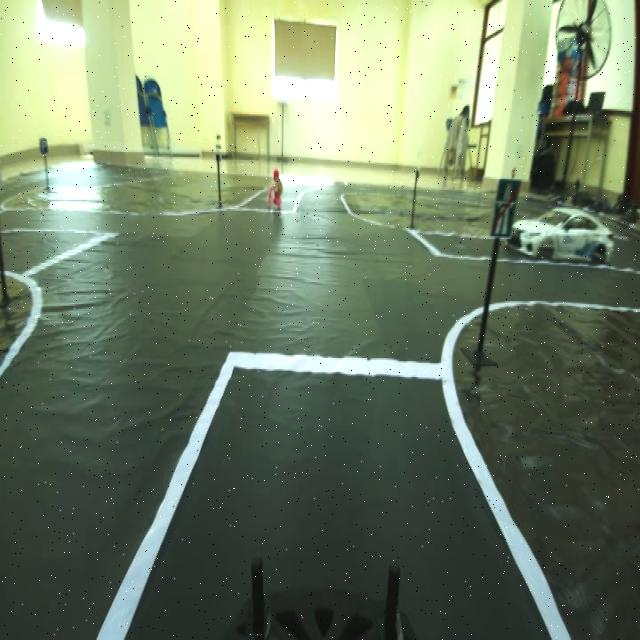highway_exit: (484, 168, 518, 252)
